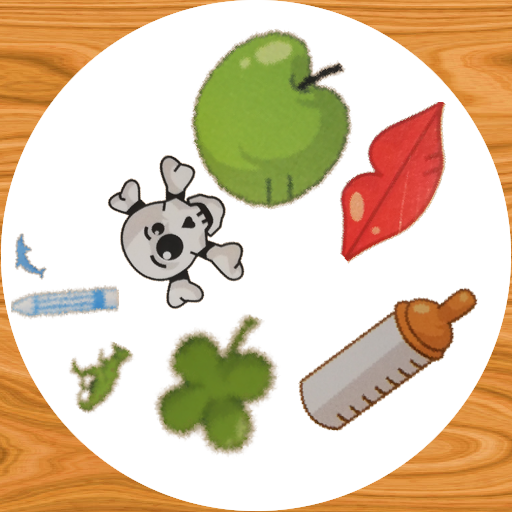apple_icon: (169, 23, 356, 210)
bottle_icon: (284, 250, 496, 462)
cloverleaf_icon: (152, 312, 306, 466)
dino_icon: (66, 341, 143, 418)
dolphin_icon: (3, 233, 53, 283)
lips_icon: (314, 102, 488, 276)
pen_icon: (11, 248, 119, 356)
skull_icon: (87, 146, 257, 316)
